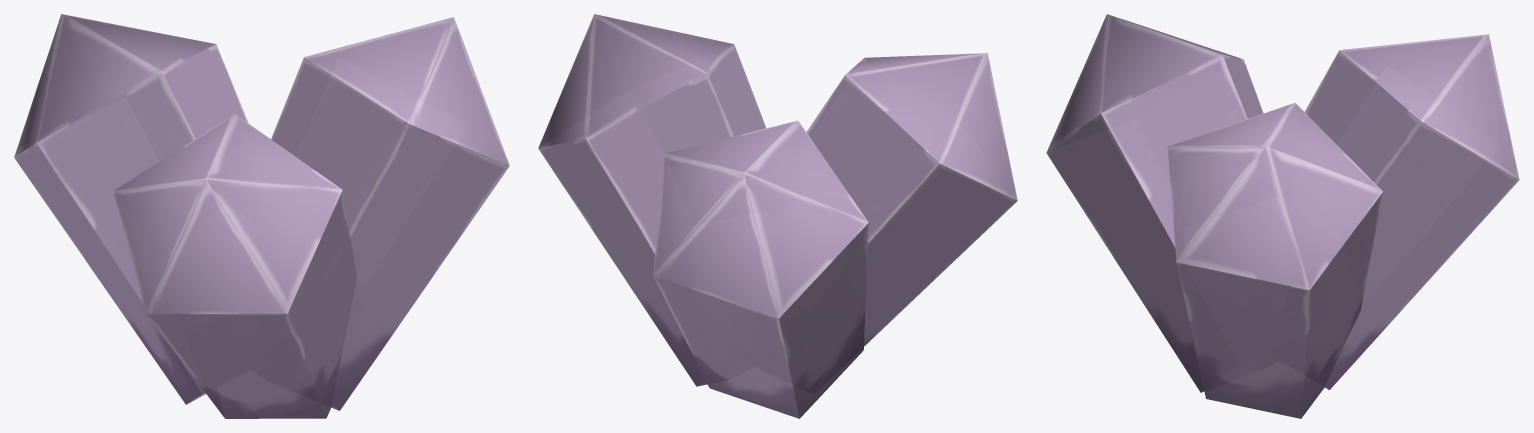
Rendered from crystal_small.fbx.
3 renders of one model, left to right at view 1: azimuth 30°, elevation 25°; view 2: azimuth 150°, elevation 25°; view 3: azimuth 270°, elevation 25°, orthographic. The views are drawn at different scales.
Visible parts, largest first — view 1: crystal_small; view 2: crystal_small; view 3: crystal_small.
Part boxes in pixels (x1,y1,x2,y2): crystal_small: (14, 14, 509, 418); crystal_small: (538, 14, 1017, 418); crystal_small: (1046, 14, 1519, 418).
Size of the model in its own units: 2.21 by 1.78 by 2.31.
Materials: 1 (1 with a texture image).
